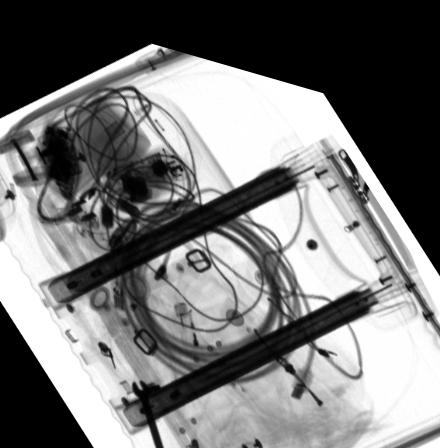Wrench: (131, 370, 167, 448)
